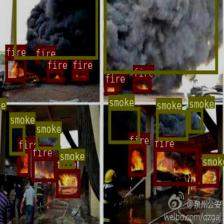fire: (153, 147, 198, 185), (55, 169, 80, 197), (32, 156, 56, 181), (128, 144, 146, 176), (4, 56, 26, 81), (200, 164, 218, 187), (18, 150, 30, 176), (132, 77, 150, 92), (46, 70, 63, 81), (72, 70, 88, 80), (104, 83, 116, 94), (35, 58, 40, 62)
smoke: (104, 0, 218, 74), (14, 0, 98, 58), (108, 106, 139, 143), (155, 110, 188, 140), (9, 124, 25, 155), (35, 132, 60, 150), (188, 107, 203, 132), (58, 160, 74, 168), (202, 154, 212, 164)
